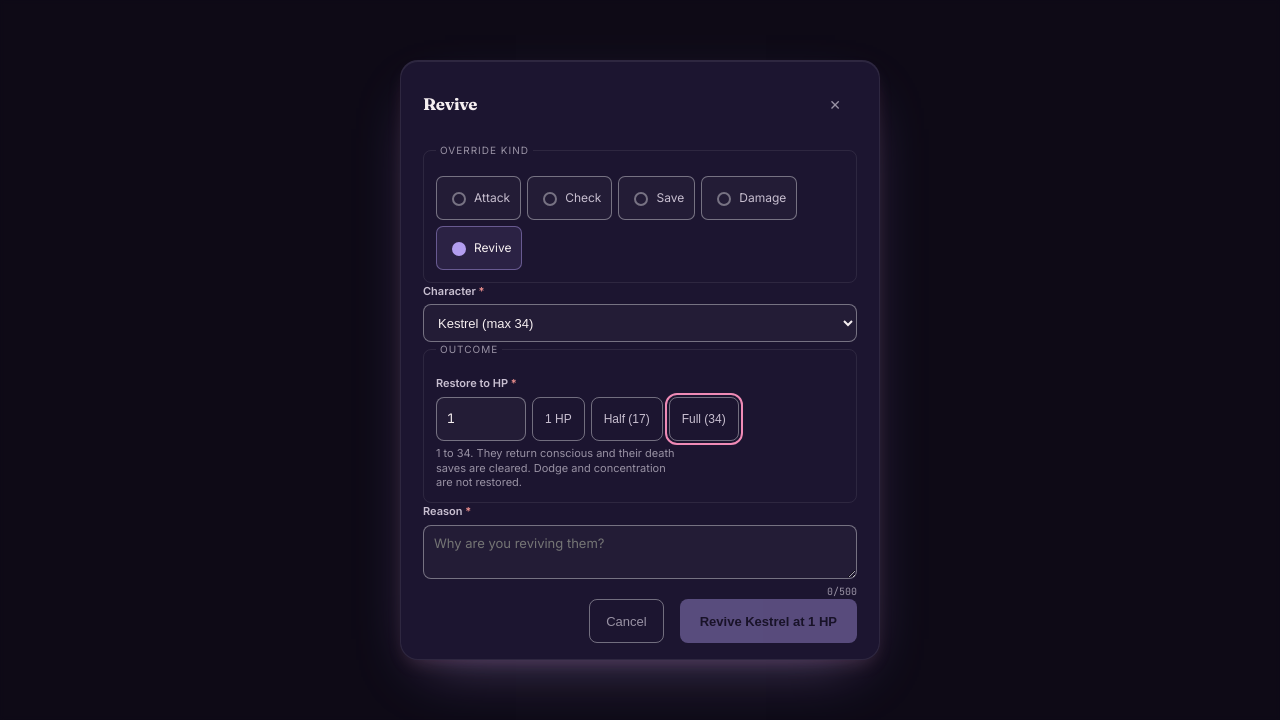
Test: quick-set and field attributes › a quick button refocuses the HP field (value set, no extra send)
Click the button with aria-label "Set to full, 34 HP".
click(704, 419)  # box [669,397,739,441]
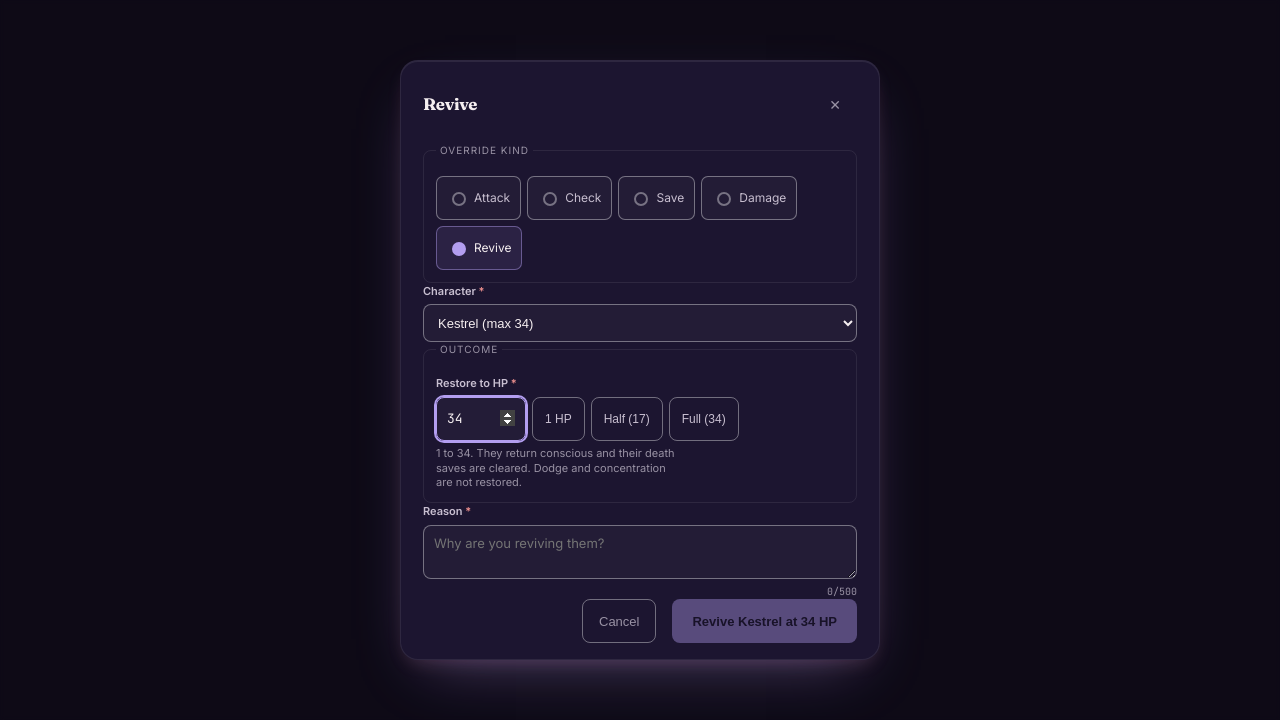
Check: the number field labelled "Restore to HP *" holds "34", box [436,397,526,441]
